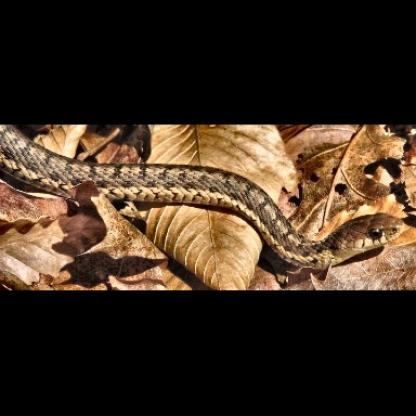Snake: (8, 128, 406, 270)
